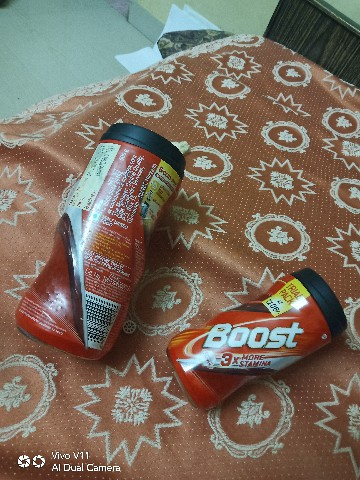boost big: (1, 117, 181, 364)
boost small: (161, 266, 348, 407)
